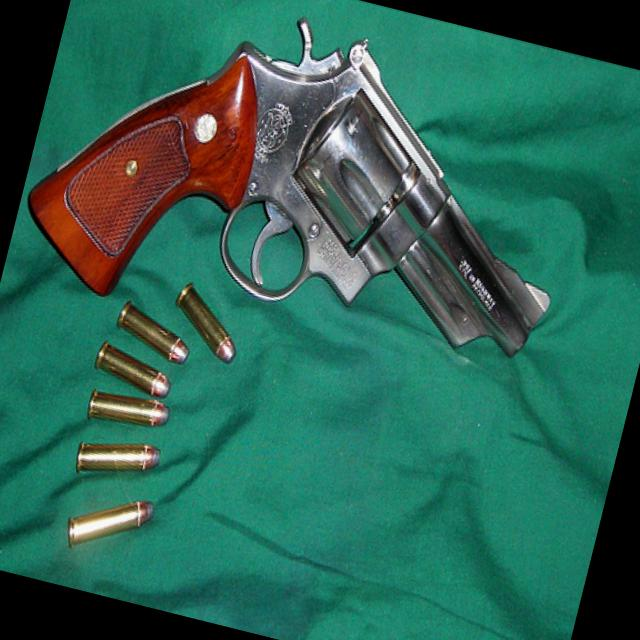handgun: (6, 0, 603, 394)
